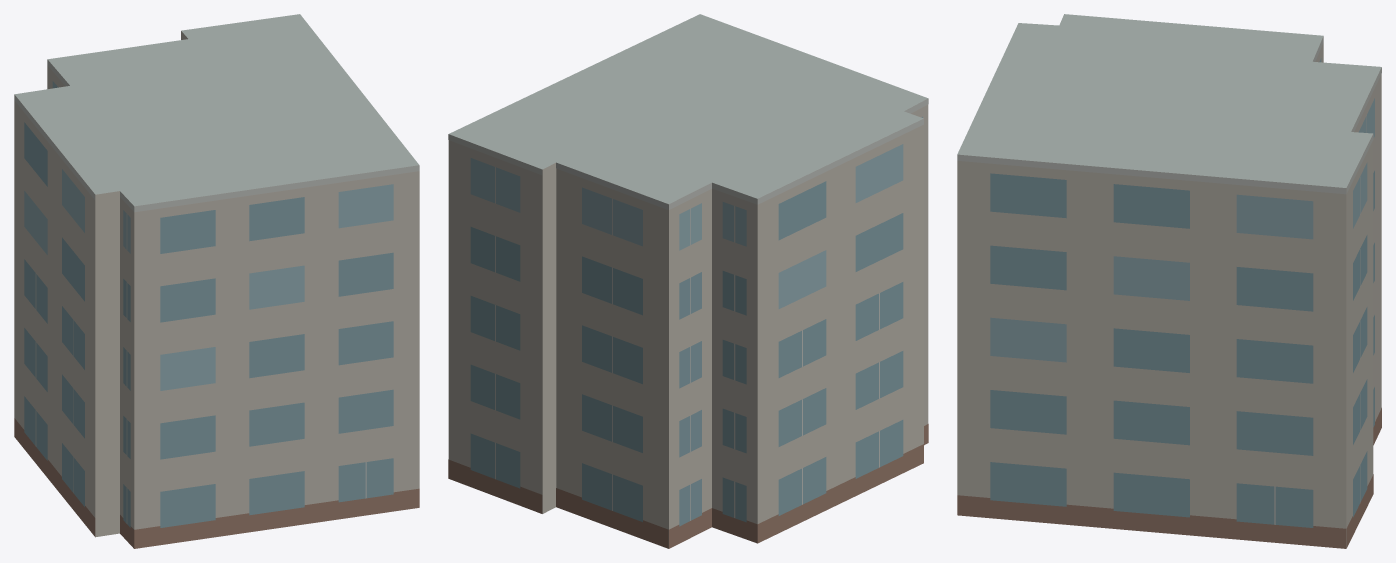
Rendered from survey-upis-32930679.glb.
3 views of the same model, side by side, from view 1: azimuth 30°, elevation 25°; view 2: azimuth 150°, elevation 25°; view 3: azimuth 270°, elevation 25° (orthographic). The views are drawn at different scales.
Parts seen in each view (by area): view 1: survey-upis-32930679.tmp; view 2: survey-upis-32930679.tmp; view 3: survey-upis-32930679.tmp.
Part boxes in pixels (<box>): survey-upis-32930679.tmp: <box>14,14,419,548</box>; survey-upis-32930679.tmp: <box>448,14,928,548</box>; survey-upis-32930679.tmp: <box>957,14,1381,548</box>.
Bounding box in the file's own units: 14.6 × 14.1 × 15.05.
